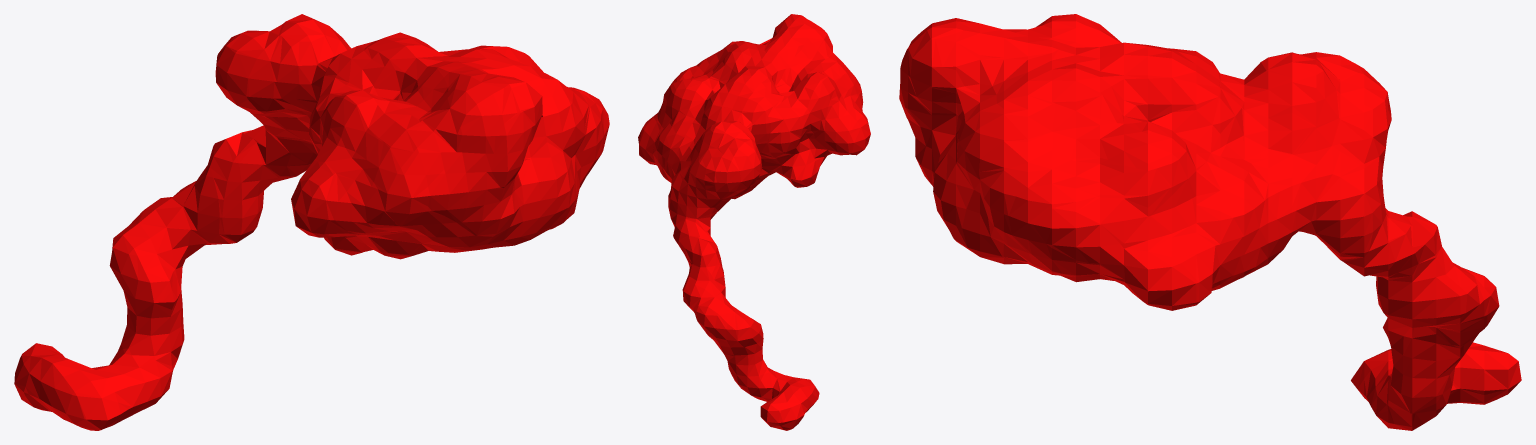
File: corC_coarse.dae
3 renders of one model, left to right at view 1: azimuth 30°, elevation 25°; view 2: azimuth 150°, elevation 25°; view 3: azimuth 270°, elevation 25°, orthographic. The views are drawn at different scales.
Parts seen in each view (by area): view 1: corC; view 2: corC; view 3: corC.
Part boxes in pixels (<box>): corC: <box>14,14,609,430</box>; corC: <box>638,14,870,430</box>; corC: <box>899,14,1521,430</box>.
Bounding box in the file's own units: 75.33 × 79.22 × 90.59.
